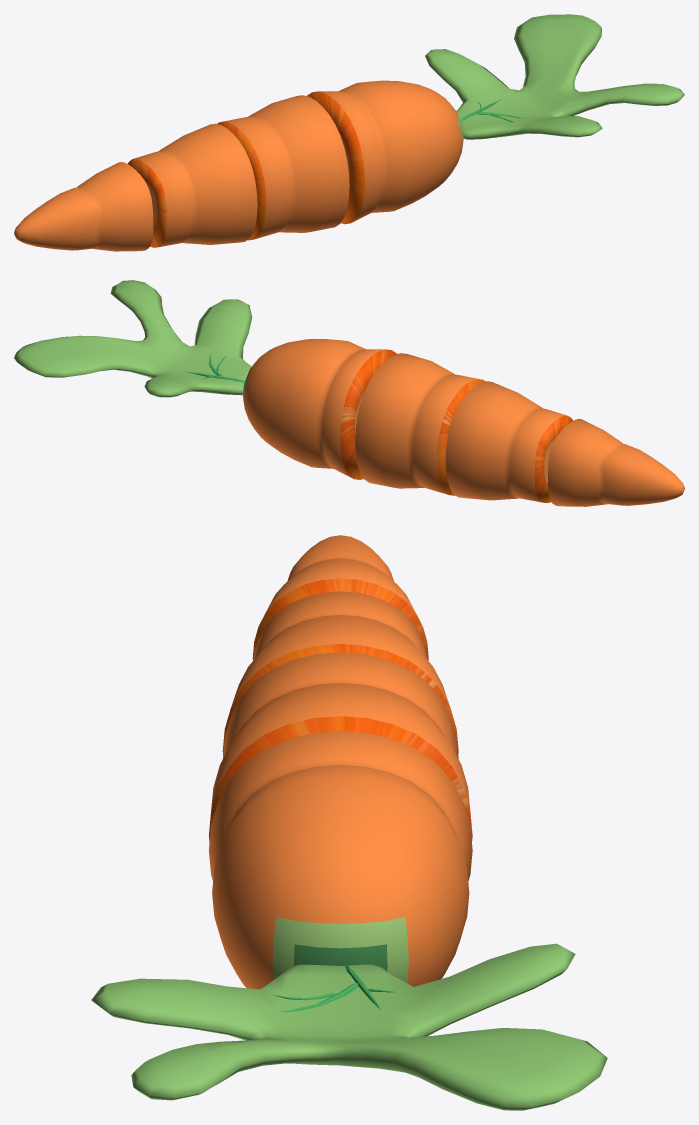
File: potongan 3.fbx
3 views of the same model, one above another, from view 1: azimuth 30°, elevation 25°; view 2: azimuth 150°, elevation 25°; view 3: azimuth 270°, elevation 25° (orthographic). The views are drawn at different scales.
Parts seen in each view (by area): view 1: Plane.014, wortel .002, wortel .003, potongan 2.001, potongan.002; view 2: Plane.014, wortel .002, wortel .003, potongan 2.001, potongan.002; view 3: wortel .002, Plane.014, wortel .003, potongan 2.001, potongan.002.
Part boxes in pixels (box(x1,y1,x2,y2)): Plane.014: box(425, 14, 684, 139); wortel .002: box(307, 80, 463, 224); wortel .003: box(217, 95, 349, 240); potongan 2.001: box(128, 123, 257, 247); potongan.002: box(14, 162, 153, 251); Plane.014: box(14, 280, 252, 397); wortel .002: box(242, 339, 396, 479); wortel .003: box(355, 353, 485, 495); potongan 2.001: box(445, 381, 572, 502); potongan.002: box(548, 419, 684, 506); wortel .002: box(209, 731, 472, 989); Plane.014: box(91, 943, 607, 1110); wortel .003: box(208, 652, 472, 842); potongan 2.001: box(222, 591, 458, 754); potongan.002: box(252, 535, 428, 660).
Bounding box in the file's own units: 748 × 138 × 270.
Materials: 8 (1 with a texture image).
